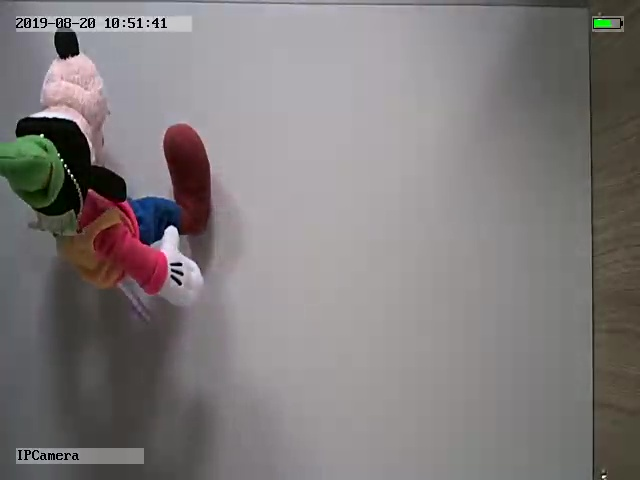goofy: (2, 32, 212, 306)
